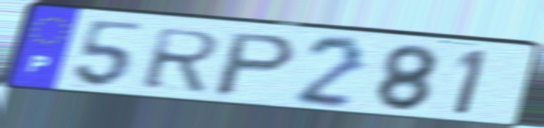1: (452, 48, 490, 119)
2: (291, 33, 375, 111)
5: (69, 17, 150, 92)
8: (370, 42, 442, 114)
P: (208, 30, 302, 100)
R: (138, 26, 225, 94)
